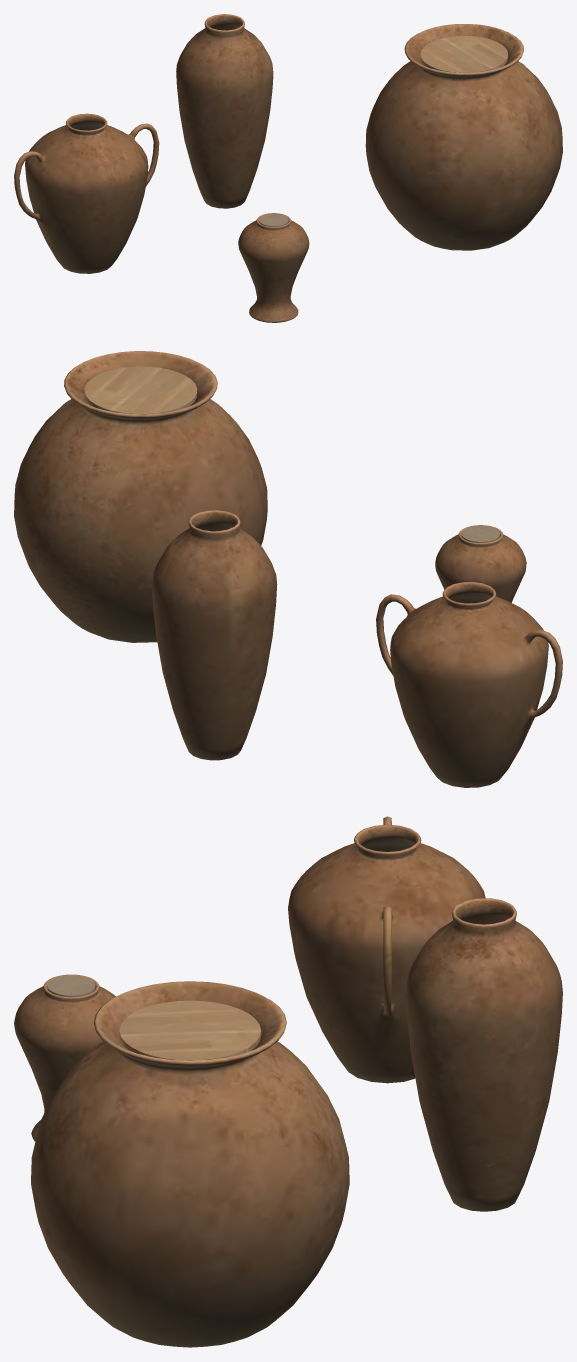
File: p_pots_old.glb
3 renders of one model, top to bottom at view 1: azimuth 30°, elevation 25°; view 2: azimuth 150°, elevation 25°; view 3: azimuth 270°, elevation 25°, orthographic. The views are drawn at different scales.
Visible parts, largest first — view 1: Pot_Large-Lid, Pot_Handles, Pot_SkinnyTall, Pot_Small-Lid, Lid_Large; view 2: Pot_Large-Lid, Pot_Handles, Pot_SkinnyTall, Lid_Large, Pot_Small-Lid, Lid_Small; view 3: Pot_Large-Lid, Pot_SkinnyTall, Pot_Handles, Lid_Large, Pot_Small-Lid, Lid_Small.
Part boxes in pixels (x1,y1,x2,y2): Pot_Large-Lid: (365,24,562,250); Pot_Handles: (14,113,159,273); Pot_SkinnyTall: (176,14,273,208); Pot_Small-Lid: (238,213,309,322); Lid_Large: (420,35,508,72); Pot_Large-Lid: (14,351,267,642); Pot_Handles: (376,582,562,787); Pot_SkinnyTall: (152,510,277,760); Lid_Large: (84,366,197,414); Pot_Small-Lid: (435,525,526,602); Lid_Small: (461,525,499,542); Pot_Large-Lid: (31,981,349,1347); Pot_SkinnyTall: (405,898,562,1211); Pot_Handles: (288,816,485,1083); Lid_Large: (119,1000,261,1060); Pot_Small-Lid: (14,974,115,1141); Lid_Small: (47,975,95,996).
Bounding box in the file's own units: 184 × 67.66 × 115.
Materials: 1 (1 with a texture image).
